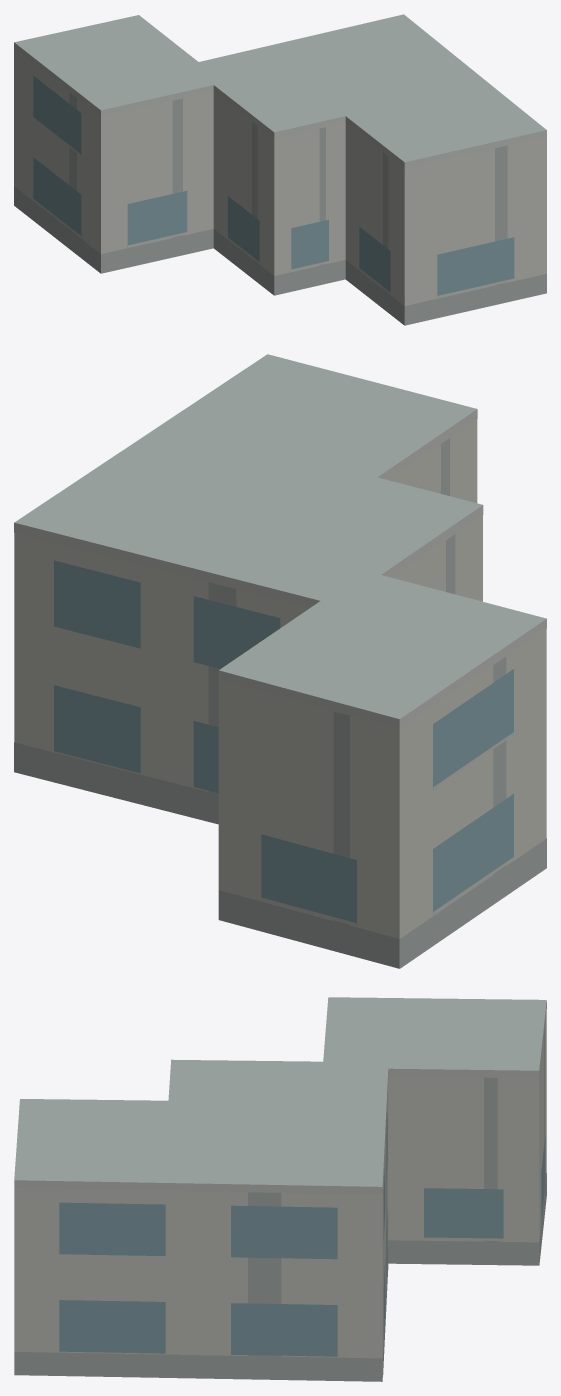
Rendered from survey-upis-32704473.glb.
The picture shows the model from 3 angles, top to bottom: view 1: azimuth 30°, elevation 25°; view 2: azimuth 150°, elevation 25°; view 3: azimuth 270°, elevation 25°; orthographic projection. The views are drawn at different scales.
Parts seen in each view (by area): view 1: survey-upis-32704473.tmp; view 2: survey-upis-32704473.tmp; view 3: survey-upis-32704473.tmp.
Part boxes in pixels (x1,y1,x2,y2): survey-upis-32704473.tmp: [14, 14, 546, 325]; survey-upis-32704473.tmp: [14, 354, 546, 968]; survey-upis-32704473.tmp: [14, 997, 546, 1381].
Size of the model in its own units: 12.74 by 6.1 by 15.12.
